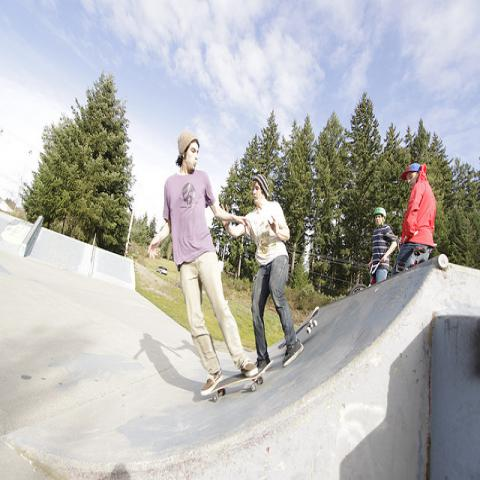car: (156, 265, 168, 276)
